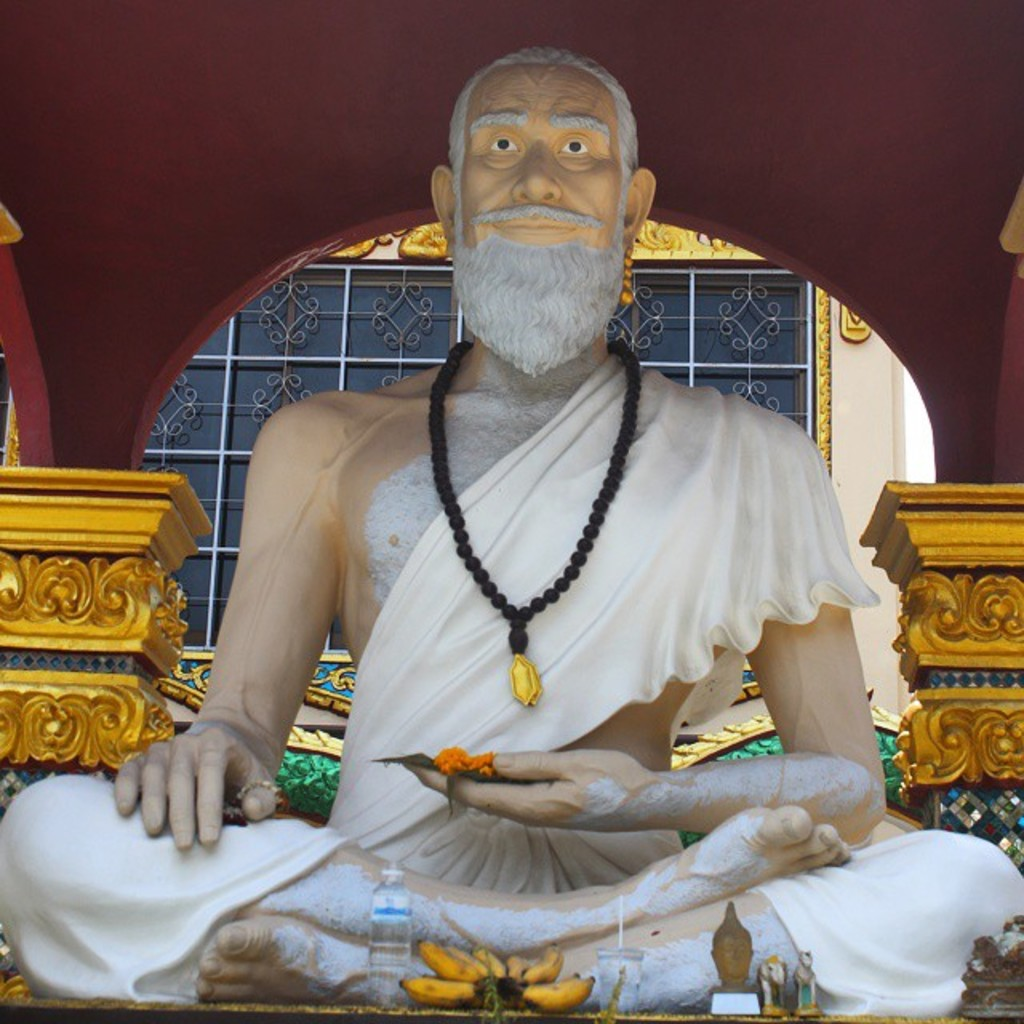face: (456, 70, 624, 295)
